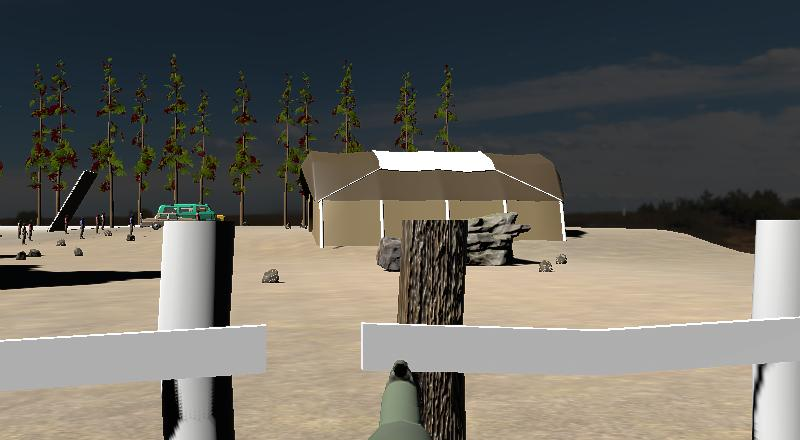Human: (79, 217, 87, 240), (64, 215, 71, 237), (24, 221, 30, 244)
car: (156, 204, 216, 222)
